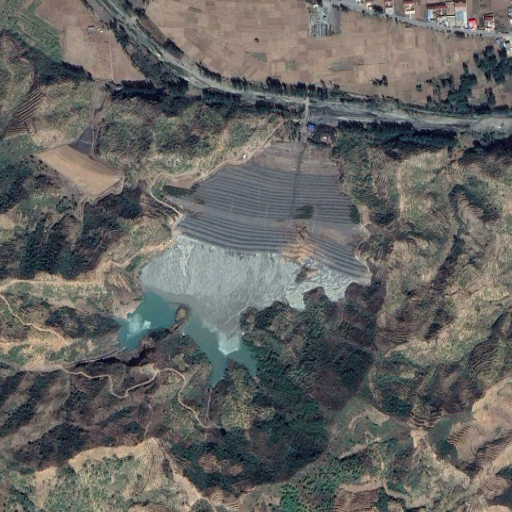tp: (113, 138, 373, 387)
